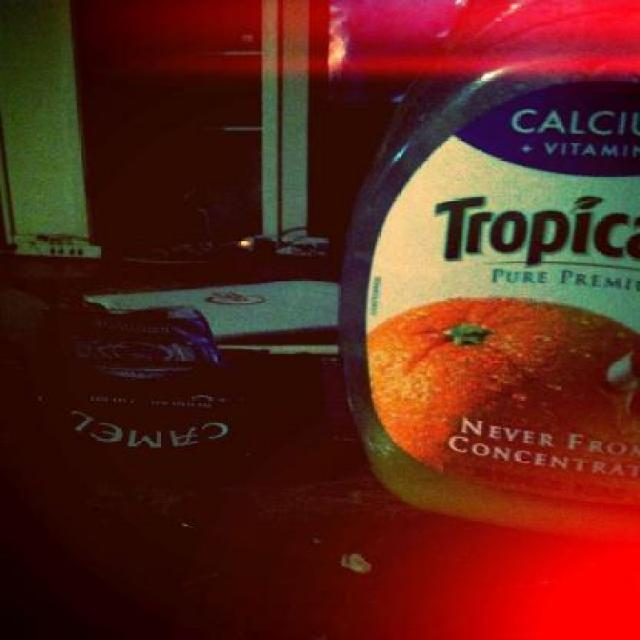Juice: (348, 64, 640, 542)
